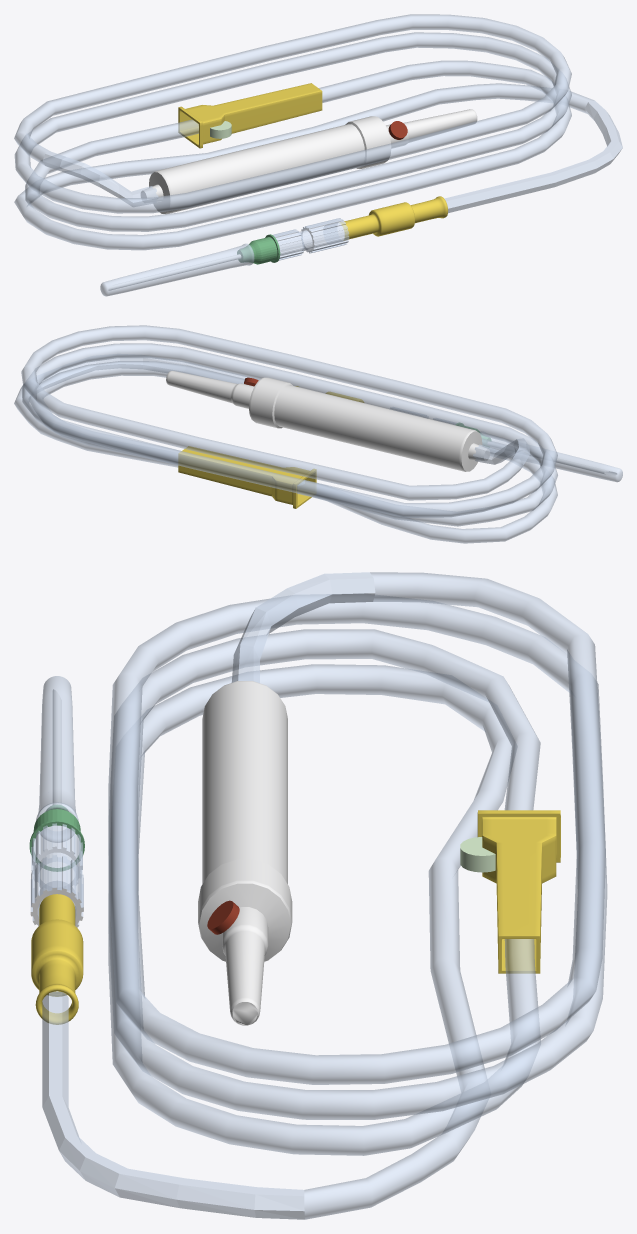
Rendered from blood-transfusion-kit.glb.
3 views of the same model, one above another, from view 1: azimuth 30°, elevation 25°; view 2: azimuth 150°, elevation 25°; view 3: azimuth 270°, elevation 25° (orthographic). The views are drawn at different scales.
Visible parts, largest first — view 1: Spring002, Cylinder006, Box018, Catheter002, Cylinder010, Cylinder009; view 2: Spring002, Cylinder006, Box018, Cylinder010, Catheter002; view 3: Spring002, Cylinder006, Box018, Catheter002, Cylinder009, Cylinder010, Cylinder008.
Boxes of the visible parts, x1,y1,x2,y2 form: Spring002: (14,14,622,250); Cylinder006: (141,109,477,214); Box018: (178,83,322,148); Catheter002: (108,218,349,290); Cylinder010: (100,243,254,296); Cylinder009: (340,196,448,240); Spring002: (14,325,557,543); Cylinder006: (166,371,489,471); Box018: (178,446,316,508); Cylinder010: (479,431,622,482); Catheter002: (390,407,616,475); Spring002: (42,572,607,1219); Cylinder006: (198,681,292,1025); Box018: (477,810,560,973); Catheter002: (29,689,84,927); Cylinder009: (31,894,83,1024); Cylinder010: (36,676,78,842); Cylinder008: (460,837,495,872).
Bounding box in the file's own units: 0.1368 × 0.02 × 0.0635.
